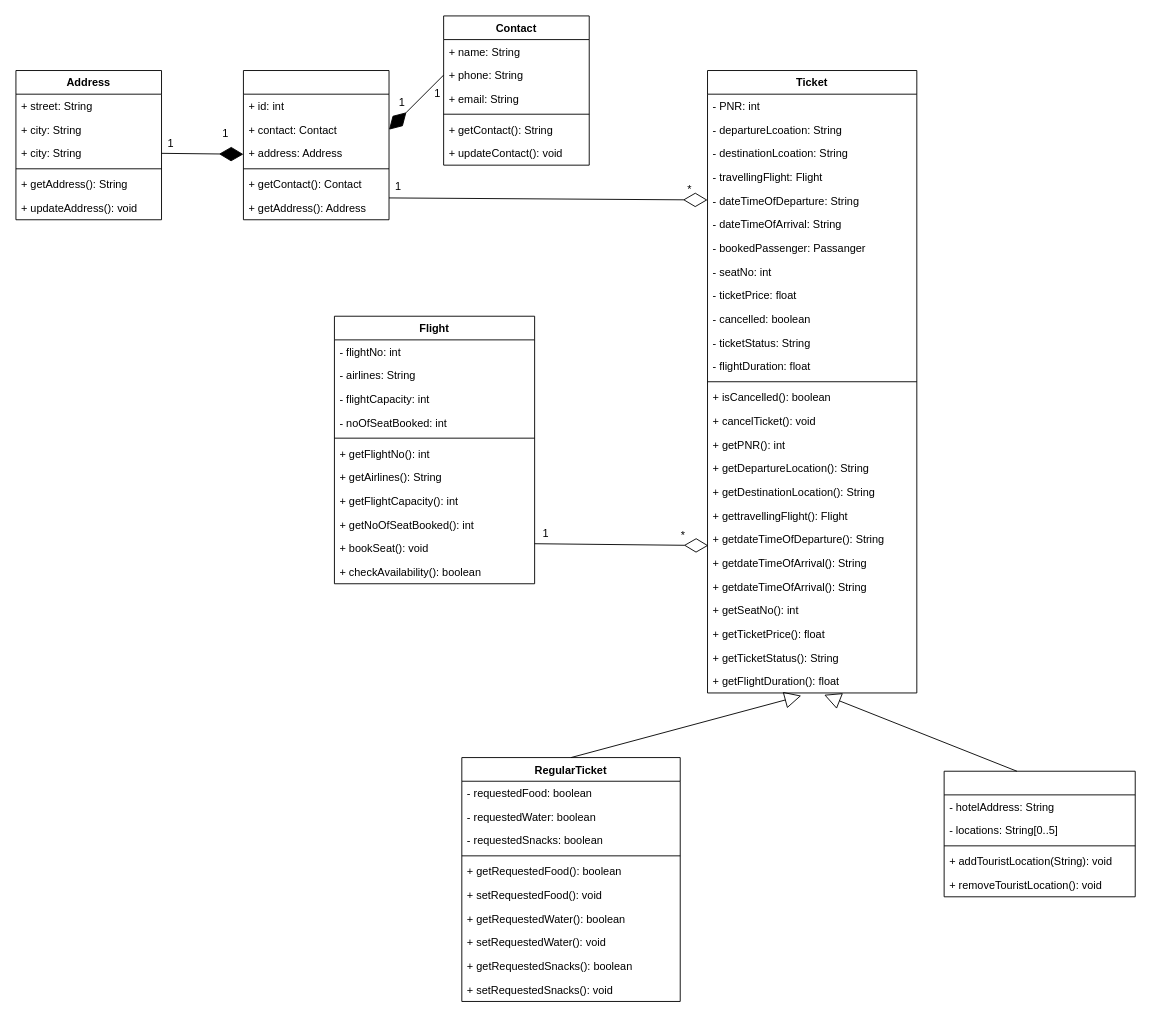
Image size: 1151x1020. Some labels were removed from this diagram. Here are the shapes that lost their labels. From the top down, the box of each, then its label:
(243, 70, 389, 220): Passenger
(943, 770, 1135, 897): TouristTicket
